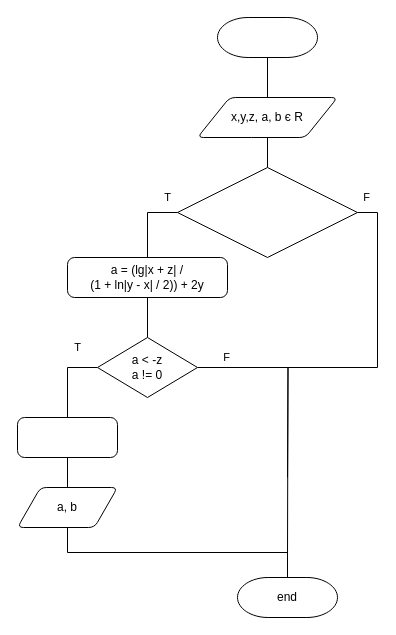
This 396x635 diagram has some shape labels left out. The shapes that lost their labels are listed below. From the top down, each one's box as (x1, y1, x2, y2) in pixels, then its label:
(216, 16, 318, 58): start
(176, 166, 358, 258): Abs(y - x) != Exp(-2) Abs(x + z) > 0 Abs(y - x) > 0
(16, 416, 118, 458): b = (ln(a + z) / (a * a)) + x^(-a)
